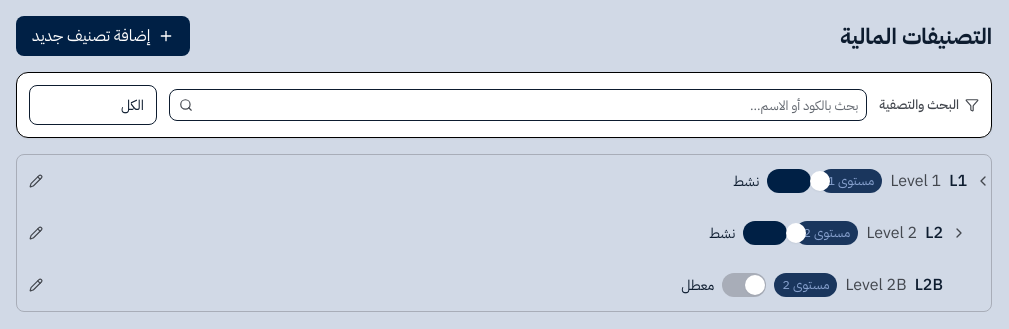
T034: Collapse hides descendants and toggle icon updates › clicking expanded node collapses it and hides children
This screenshot has width=1009, height=329.
Expected: the text "Level 2" is shown, [866,221,917,245]
Click the element with class "cursor-pointer" showing "L1 Level 1 مستوى 1 نشط": click(916, 181) [25,169,991,193]
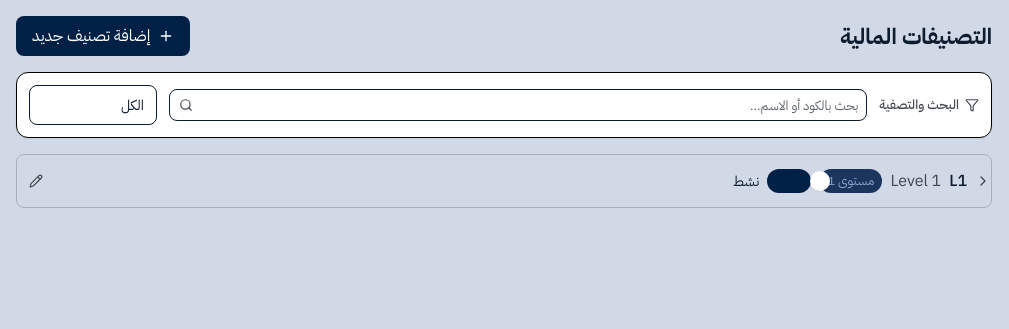
Expected: the text "Level 2" is gone
